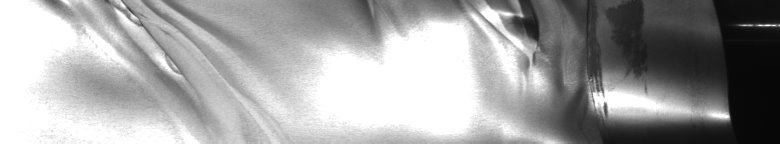ke: (460, 4, 700, 132)
